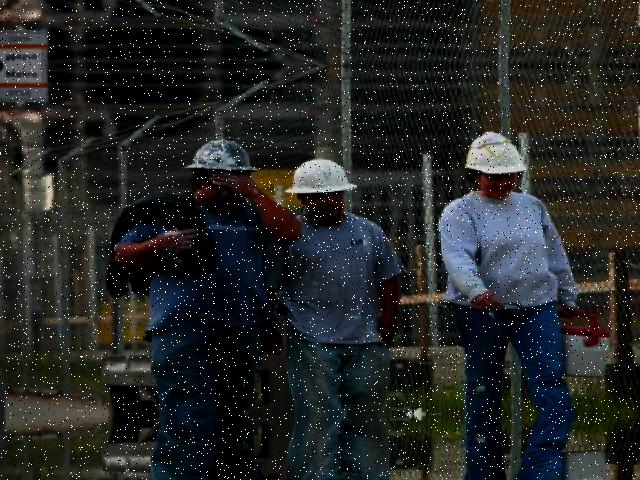Helmet: (277, 154, 359, 204), (462, 129, 530, 185), (178, 134, 258, 180)
